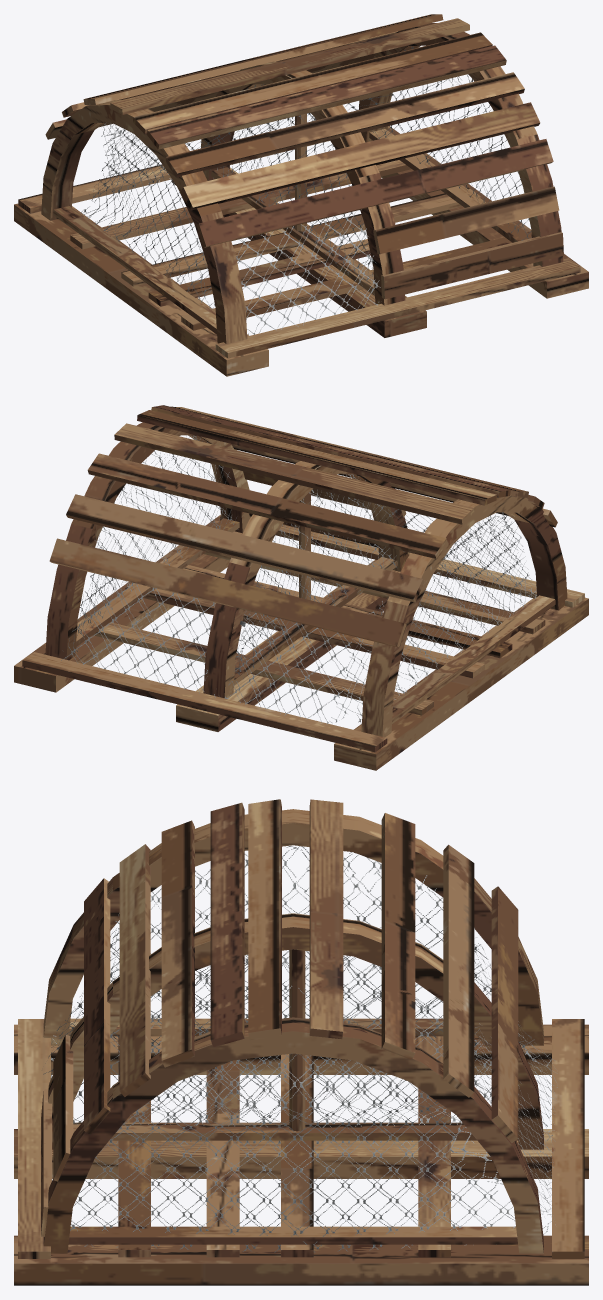
Rendered from LobsterPot.FBX.
The picture shows the model from 3 angles, top to bottom: view 1: azimuth 30°, elevation 25°; view 2: azimuth 150°, elevation 25°; view 3: azimuth 270°, elevation 25°; orthographic projection. The views are drawn at different scales.
Visible parts, largest first — view 1: LobsterPot, Mesh; view 2: LobsterPot, Mesh; view 3: LobsterPot, Mesh.
Boxes of the visible parts, x1,y1,x2,y2 form: LobsterPot: (14,14,588,376); Mesh: (80,46,531,334); LobsterPot: (14,405,588,770); Mesh: (61,435,536,724); LobsterPot: (14,799,588,1285); Mesh: (43,846,557,1252).
Bounding box in the file's own units: 68.79 × 34.69 × 70.02.
